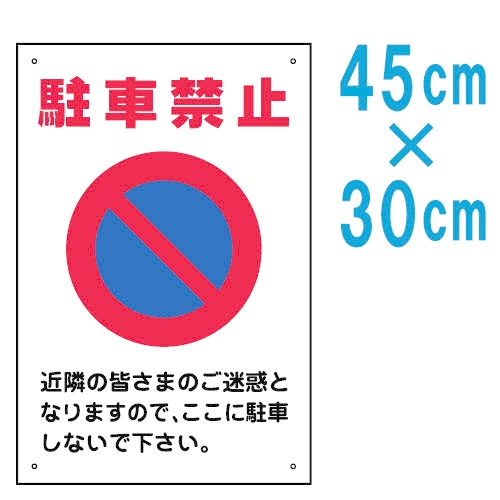Prohibition_sign: (53, 144, 285, 345)
